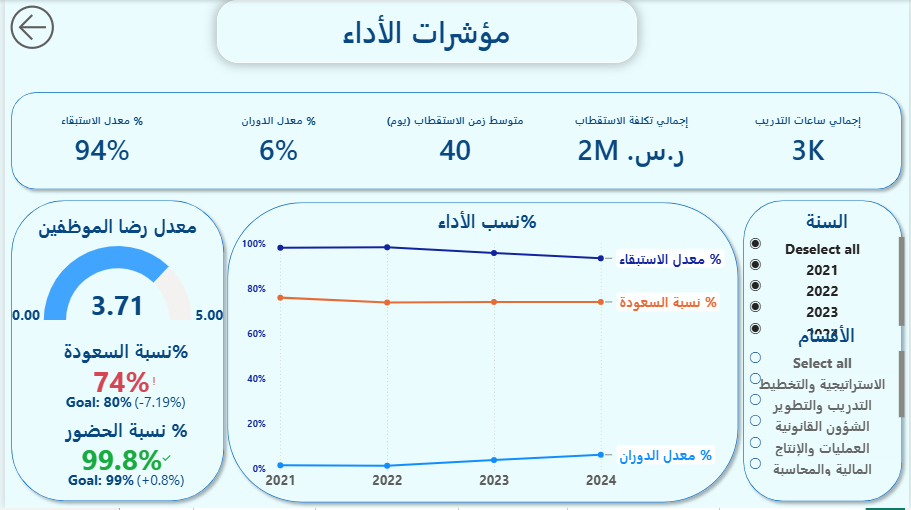

What the dashboard file says about the page in this screenshot:
{"tool":"powerbi","page":{"name":"مؤشرات الأداء","canvas":[1280,720],"ordinal":3},"visuals":[{"type":"group","id":"g1","title":"Background","box":[0,121.3,1280,598.8],"z":0},{"type":"shape","box":[1036.9,273.8,243.1,444.8],"z":0,"group":"g1"},{"type":"cardVisual","fields":{"Data":["بيانات_الموظفين.معدل الأستبقاء %","بيانات_الموظفين.معدل الدوران الوظيفي %","الاستقطاب_والتوظيف.متوسط زمن الاستقطاب (يوم)","الاستقطاب_والتوظيف.إجمالي تكلفة الاستقطاب","التدريب_والتطوير.إجمالي ساعات التدريب"]},"box":[0,128.2,1280,141.8],"z":1000},{"type":"shape","box":[306.1,276.7,742.3,443.4],"z":1000,"group":"g1"},{"type":"shape","box":[0,274.5,319.6,444.3],"z":2000,"group":"g1"},{"type":"kpi","title":"نسبة الحضور % ","fields":{"Indicator":["الحضور_والغياب.نسبة الحضور %"],"TrendLine":["جدول_الأهداف.اسم المؤشر"],"Goal":["جدول_الأهداف.هدف الحضور"]},"box":[49.6,591.3,244.4,107.7],"z":2000},{"type":"shape","box":[0,121.3,1280,155.5],"z":3000,"group":"g1"},{"type":"listSlicer","title":"السنة","fields":{"Values":["جدول_التاريخ.التاريخ.Variation.Date Hierarchy.Year"]},"box":[1048.3,294.6,231.7,184.5],"z":3000},{"type":"lineChart","title":"نسب الأداء%","fields":{"Y":["بيانات_الموظفين.معدل الدوران %","بيانات_الموظفين.معدل الاستبقاء %","بيانات_الموظفين.نسبة السعودة %"],"Category":["جدول_التاريخ.السنة"]},"box":[330.4,294.6,706.5,409],"z":4000},{"type":"gauge","title":"معدل رضا الموظفين","fields":{"Y":["بيانات_الموظفين.متوسط رضا الموظفين"]},"box":[0,302.5,319.6,167.5],"z":5000},{"type":"listSlicer","title":"الأقسام","fields":{"Values":["بيانات_الموظفين.اسم القسم"]},"box":[1048.3,456.2,231.7,223.1],"z":6000},{"type":"textbox","box":[300,0,595,89],"z":7000},{"type":"kpi","title":"نسبة السعودة%","fields":{"Indicator":["بيانات_الموظفين (2).نسبة السعودة %"],"Goal":["جدول_الأهداف.هدف السعودة"],"TrendLine":["جدول_الأهداف.اسم المؤشر"]},"box":[12,478.5,319.6,112.8],"z":8000},{"type":"actionButton","box":[0,0,140.2,77.2],"z":9000}]}

Visuals, with their boxes in screenshot pixels (x1, y1, x2, y2), scaled from the page's 1280x720 canvas onto the 911x510 screenshot:
"Background" group: rect(0, 86, 910, 509)
shape: rect(738, 194, 910, 509)
cardVisual - بيانات_الموظفين.معدل الأستبقاء % x بيانات_الموظفين.معدل الدوران الوظيفي %: rect(0, 91, 910, 191)
shape: rect(218, 196, 746, 509)
shape: rect(0, 194, 227, 509)
"نسبة الحضور % " kpi: rect(35, 419, 209, 495)
shape: rect(0, 86, 910, 196)
"السنة" listSlicer: rect(746, 209, 910, 339)
"نسب الأداء%" lineChart: rect(235, 209, 738, 498)
"معدل رضا الموظفين" gauge: rect(0, 214, 227, 333)
"الأقسام" listSlicer: rect(746, 323, 910, 481)
textbox: rect(214, 0, 637, 63)
"نسبة السعودة%" kpi: rect(9, 339, 236, 419)
actionButton: rect(0, 0, 100, 55)
